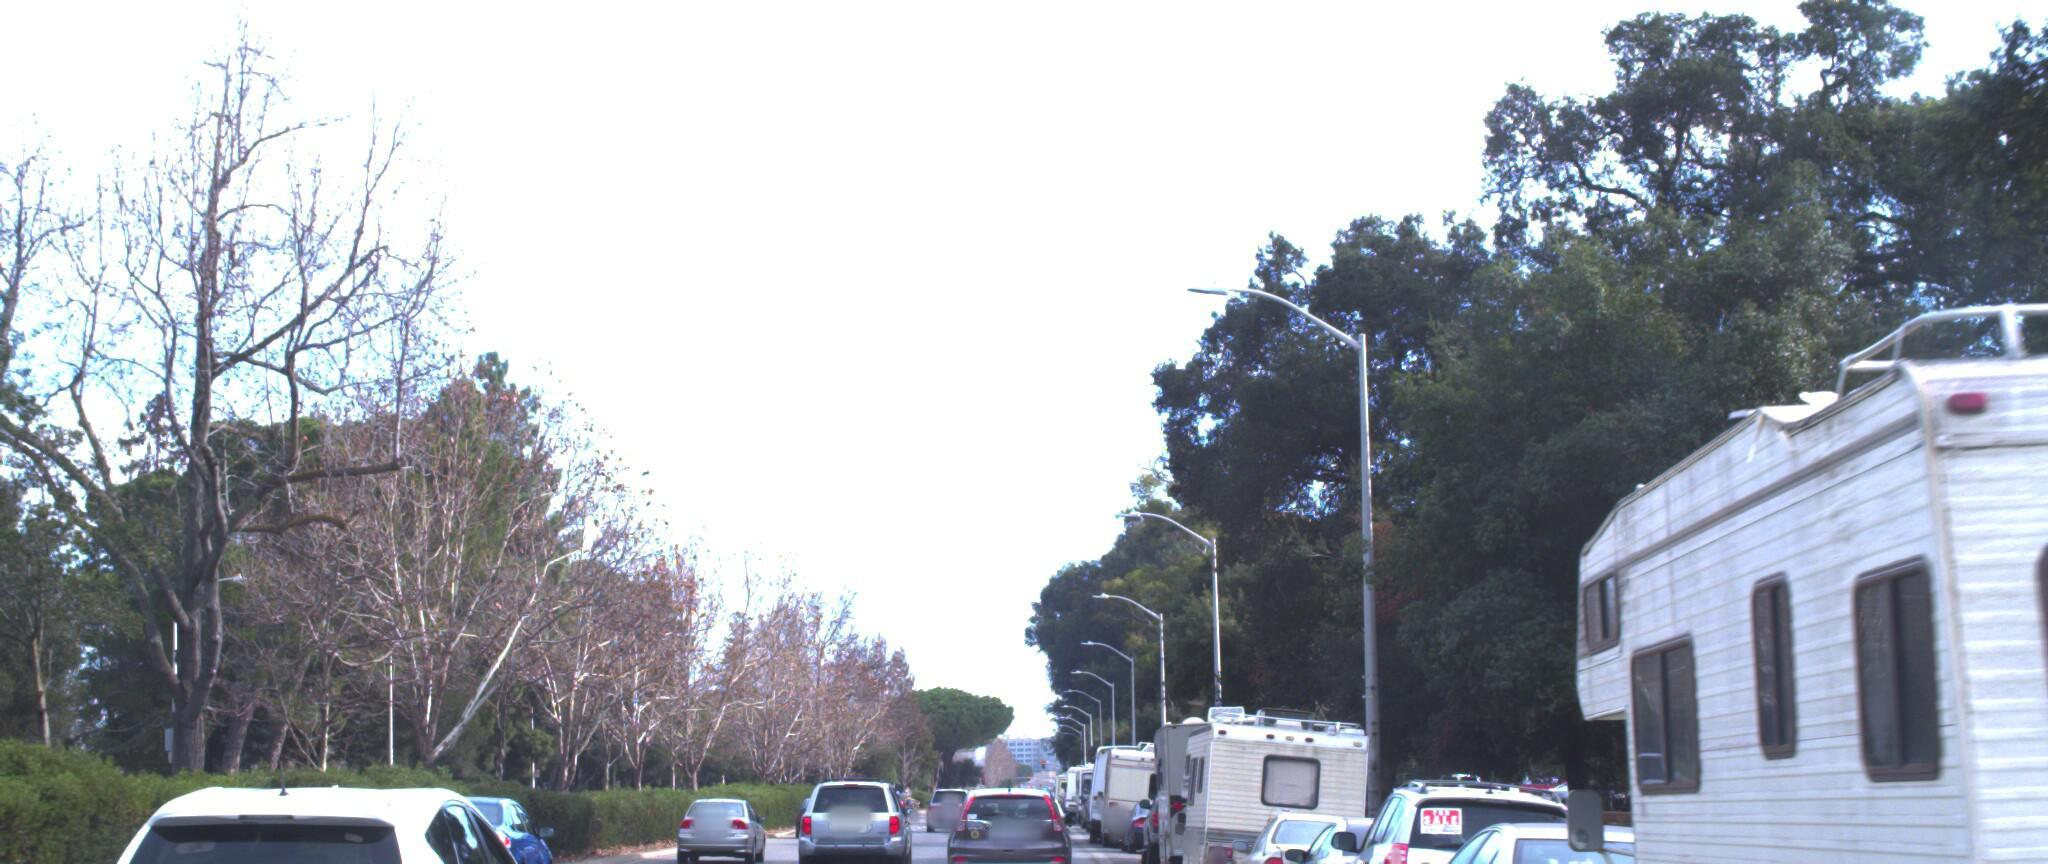car: (54, 757, 586, 864), (1300, 760, 1616, 864), (1407, 799, 1813, 864), (1249, 800, 1505, 864), (1196, 797, 1417, 864), (462, 790, 654, 864), (931, 769, 1068, 864), (794, 766, 910, 864), (664, 787, 767, 857)
other_vehicle: (1503, 205, 2048, 864), (1138, 690, 1396, 864), (1115, 720, 1301, 864)
